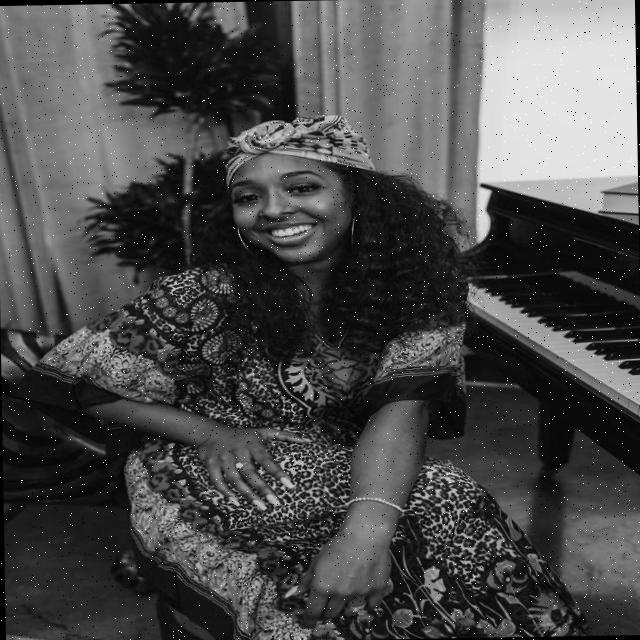Happiness: (224, 151, 350, 267)
